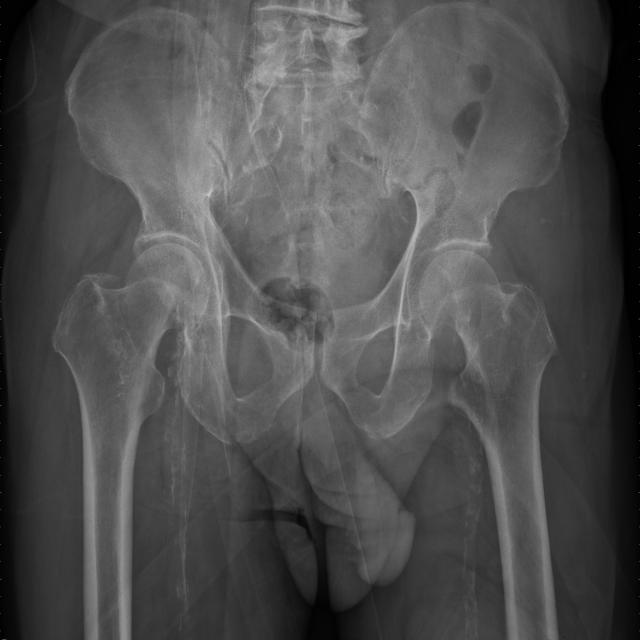normal-left: (419, 249, 556, 542)
normal-right: (52, 242, 208, 520)
